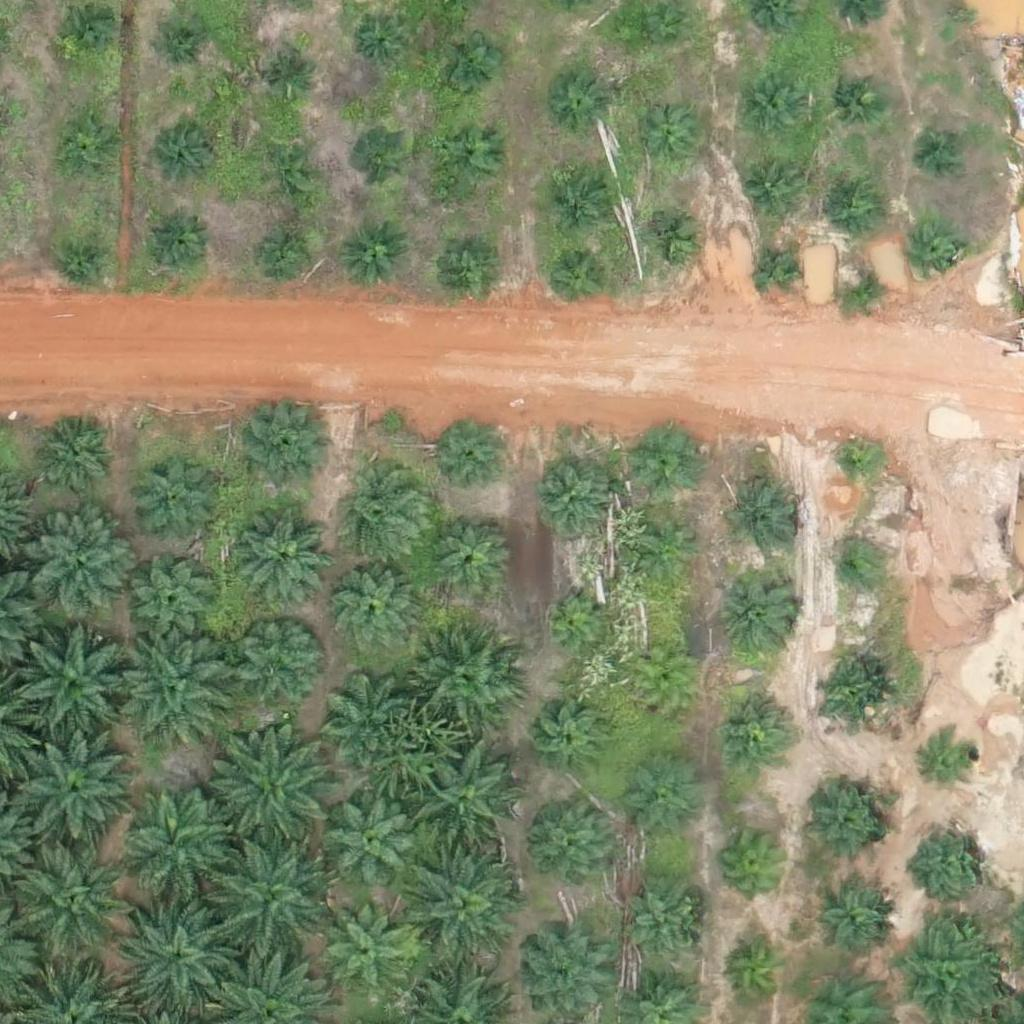Kelapa_Sawit: (215, 838, 340, 964), (115, 891, 240, 1017), (116, 618, 241, 744), (10, 622, 135, 748), (7, 732, 132, 858), (211, 733, 336, 858), (410, 854, 523, 967), (25, 506, 138, 619), (419, 753, 519, 854), (21, 849, 121, 950), (413, 630, 513, 730), (128, 792, 228, 892), (335, 466, 435, 566), (230, 499, 330, 599), (805, 783, 893, 871), (523, 933, 611, 1021), (330, 800, 418, 888), (236, 616, 324, 704), (244, 400, 332, 488), (125, 556, 213, 644), (529, 802, 616, 891), (333, 566, 420, 655), (809, 880, 896, 968), (616, 884, 703, 972), (322, 906, 409, 994), (321, 673, 408, 761), (532, 455, 619, 543), (427, 512, 514, 600), (124, 456, 211, 544), (722, 477, 797, 553), (432, 422, 507, 498), (813, 658, 888, 734), (717, 934, 792, 1010), (915, 821, 990, 897), (722, 574, 797, 650), (530, 701, 605, 776), (38, 421, 113, 496), (627, 765, 702, 840), (714, 692, 789, 767), (720, 825, 795, 900), (626, 4, 689, 67), (340, 224, 403, 287), (739, 77, 802, 140), (149, 207, 212, 270), (60, 114, 123, 177), (50, 225, 113, 288), (436, 122, 499, 185), (434, 229, 497, 292), (350, 129, 413, 192), (546, 246, 609, 309), (635, 427, 698, 490), (826, 173, 889, 236), (740, 158, 803, 221), (631, 649, 694, 712), (56, 4, 119, 66), (437, 36, 499, 99), (550, 168, 612, 231), (262, 142, 324, 205), (547, 72, 609, 135), (641, 523, 703, 586), (636, 110, 698, 173), (641, 208, 703, 271), (826, 68, 888, 131), (920, 730, 982, 793), (257, 224, 319, 286), (540, 589, 602, 651), (153, 129, 215, 191), (753, 243, 803, 294), (839, 264, 889, 315), (160, 30, 210, 80), (270, 55, 320, 105), (353, 18, 403, 68), (910, 230, 960, 280), (920, 125, 970, 175), (832, 438, 882, 488), (828, 545, 878, 595)
